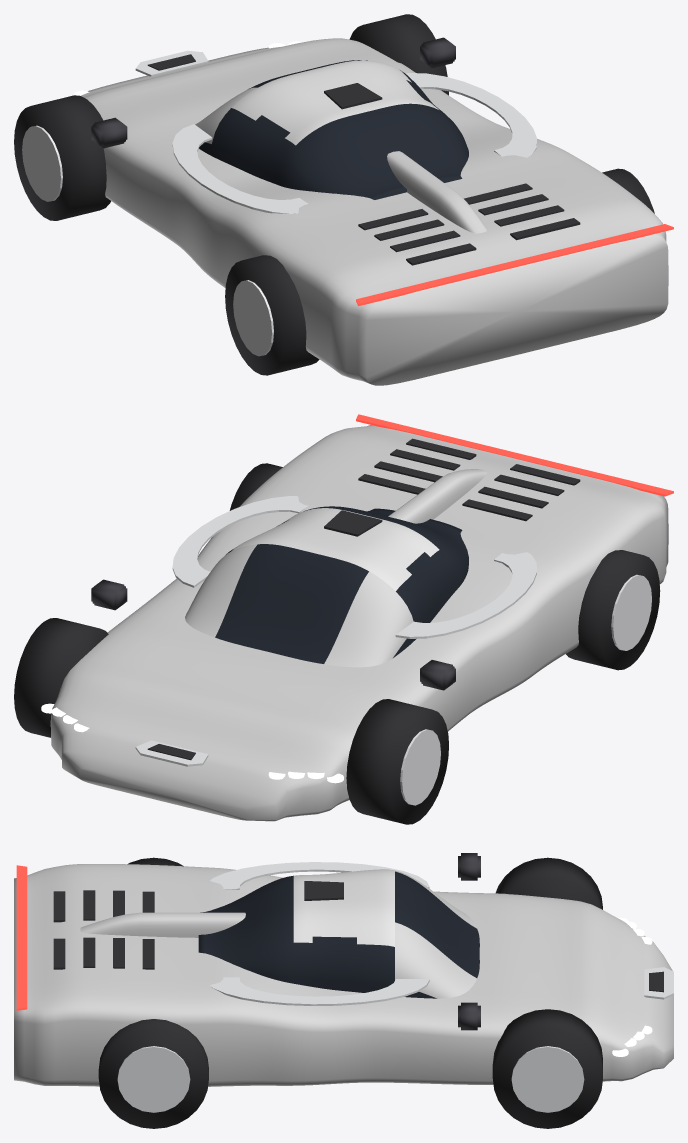
The model's file is singularity.glb.
3 views of the same model, one above another, from view 1: azimuth 30°, elevation 25°; view 2: azimuth 150°, elevation 25°; view 3: azimuth 270°, elevation 25° (orthographic). The views are drawn at different scales.
Parts seen in each view (by area): view 1: body, cabin, wheel1-1, wheel0-1, wheel11, pod0, cline.001, cline, lightbar, wheel0-1rim, wheel1-1rim, roofscoop (+6 smaller); view 2: body, cabin, wheel1-1, wheel11, wheel0-1, cline.001, cline, pod0, wheel0-1rim, wheel1-1rim, lightbar, roofscoop (+4 smaller); view 3: body, cabin, wheel11, wheel01, wheel01rim, wheel11rim, wheel1-1, pod0, cline, cline.001, lightbar, roofscoop (+3 smaller).
Boxes of the visible parts, x1=… form: body: x1=81, y1=38, x2=668, y2=385; cabin: x1=195, y1=60, x2=468, y2=199; wheel1-1: x1=14, y1=95, x2=110, y2=220; wheel0-1: x1=225, y1=255, x2=319, y2=375; wheel11: x1=349, y1=14, x2=448, y2=95; pod0: x1=387, y1=151, x2=486, y2=233; cline.001: x1=172, y1=124, x2=308, y2=213; cline: x1=405, y1=73, x2=536, y2=157; lightbar: x1=356, y1=224, x2=673, y2=306; wheel0-1rim: x1=233, y1=280, x2=273, y2=356; wheel1-1rim: x1=22, y1=125, x2=62, y2=201; roofscoop: x1=324, y1=83, x2=382, y2=109; body: x1=50, y1=425, x2=668, y2=821; cabin: x1=185, y1=506, x2=468, y2=667; wheel1-1: x1=346, y1=699, x2=448, y2=824; wheel11: x1=14, y1=618, x2=108, y2=737; wheel0-1: x1=566, y1=550, x2=660, y2=670; cline.001: x1=395, y1=552, x2=536, y2=638; cline: x1=172, y1=496, x2=308, y2=587; pod0: x1=388, y1=469, x2=486, y2=523; wheel0-1rim: x1=611, y1=574, x2=651, y2=650; wheel1-1rim: x1=400, y1=729, x2=440, y2=805; lightbar: x1=356, y1=414, x2=673, y2=496; roofscoop: x1=324, y1=510, x2=382, y2=536; body: x1=14, y1=864, x2=673, y2=1086; cabin: x1=198, y1=869, x2=479, y2=998; wheel11: x1=492, y1=1009, x2=602, y2=1128; wheel01: x1=98, y1=1019, x2=208, y2=1128; wheel01rim: x1=117, y1=1046, x2=190, y2=1112; wheel11rim: x1=511, y1=1046, x2=584, y2=1112; wheel1-1: x1=495, y1=857, x2=602, y2=909; pod0: x1=80, y1=912, x2=245, y2=937; cline: x1=210, y1=977, x2=429, y2=1005; cline.001: x1=210, y1=862, x2=429, y2=889; lightbar: x1=16, y1=865, x2=27, y2=1010; roofscoop: x1=304, y1=881, x2=343, y2=900.
Size of the model in its own units: 38.48 by 15.89 by 62.
